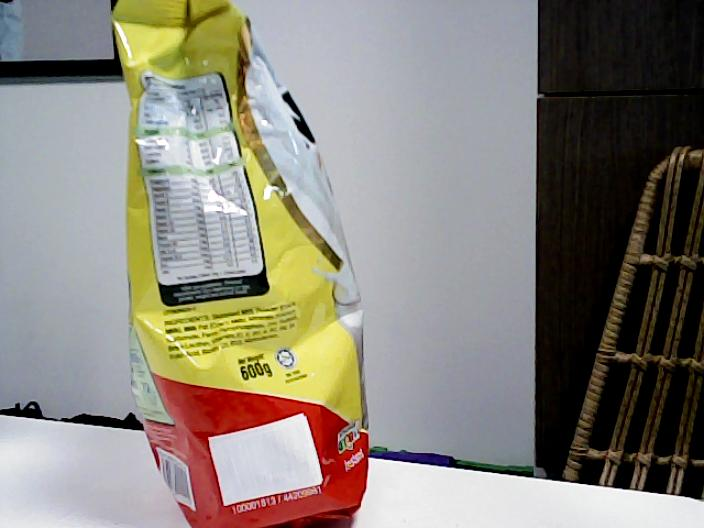Adult_Milk_600-699g_Halal_NonHealthy: (121, 1, 367, 527)
